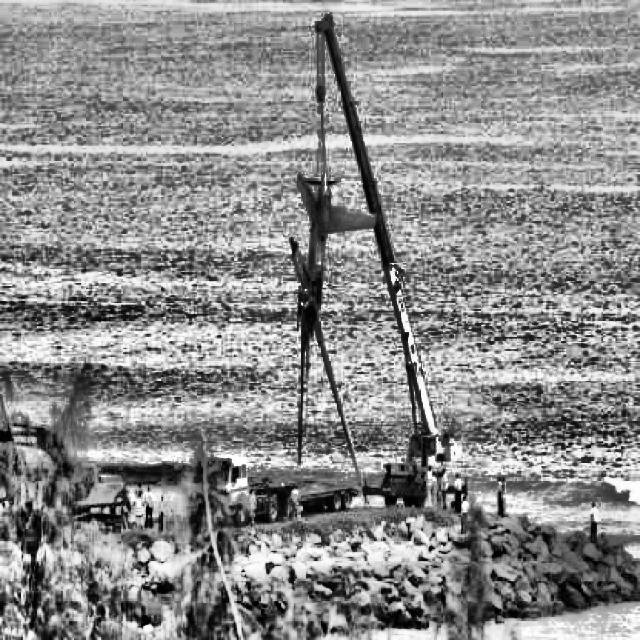MQ9: (290, 172, 378, 505)
